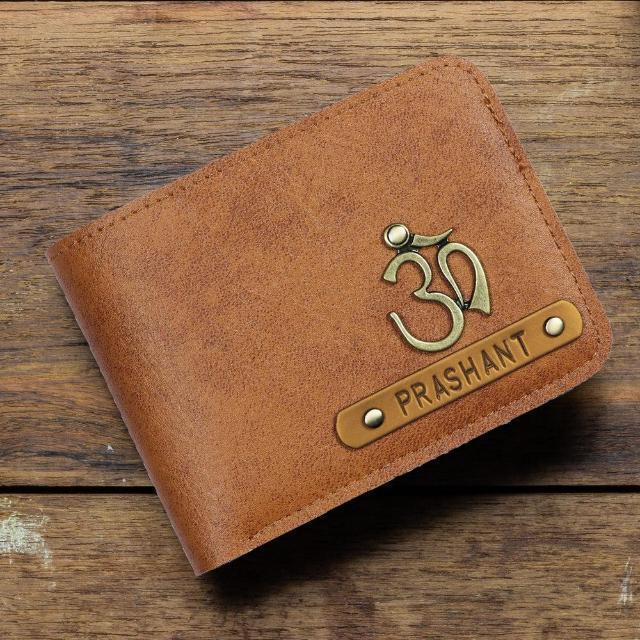wallet: (48, 49, 616, 583)
